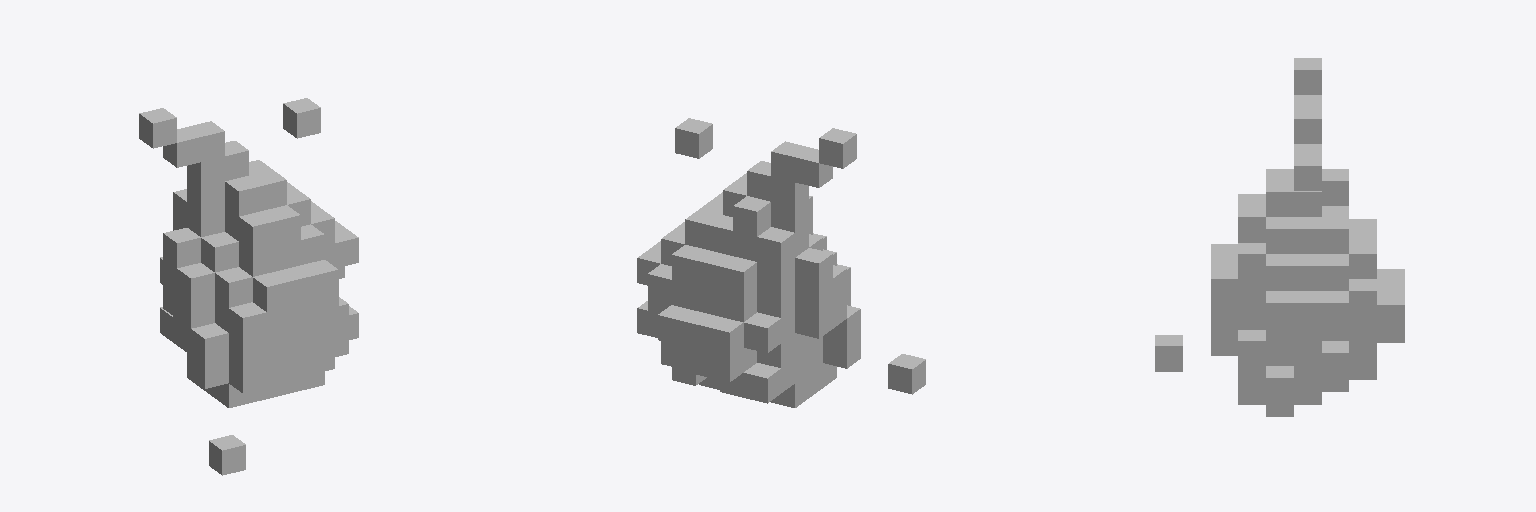
Rendered from Fire.obj.
The picture shows the model from 3 angles: view 1: azimuth 30°, elevation 25°; view 2: azimuth 150°, elevation 25°; view 3: azimuth 270°, elevation 25°; orthographic projection.
Visible parts, largest first — view 1: object 1; view 2: object 1; view 3: object 1.
Boxes of the visible parts, <box> form: object 1: <box>139,98,358,475</box>; object 1: <box>637,118,925,407</box>; object 1: <box>1155,58,1404,416</box>.
Size of the model in its own units: 0.8 by 1.2 by 0.9.